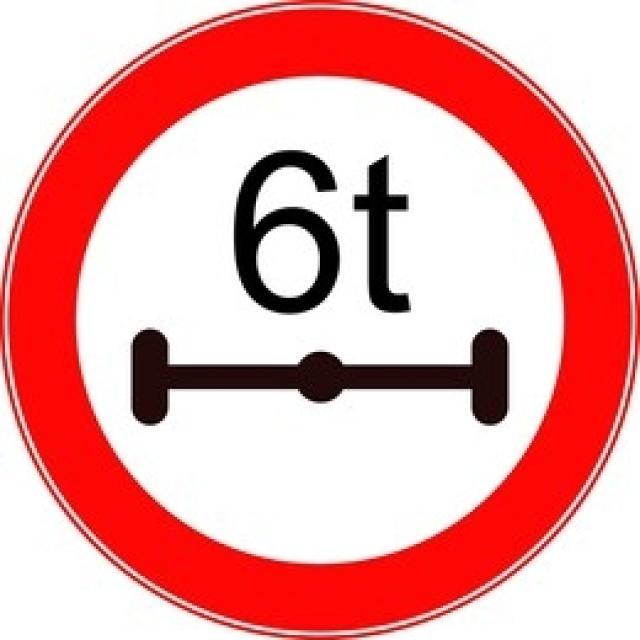axle load limit: (13, 18, 622, 618)
